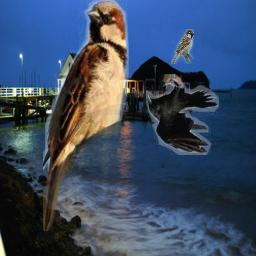Crow: (146, 74, 219, 155)
Sparrow: (171, 29, 194, 64)
Swallow: (43, 0, 129, 231)
